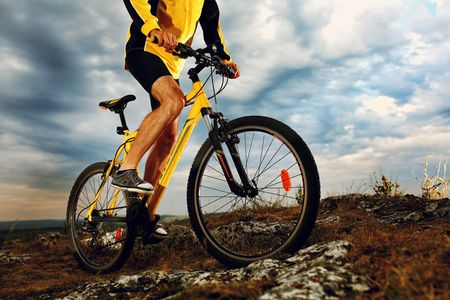单车: (59, 36, 328, 267)
